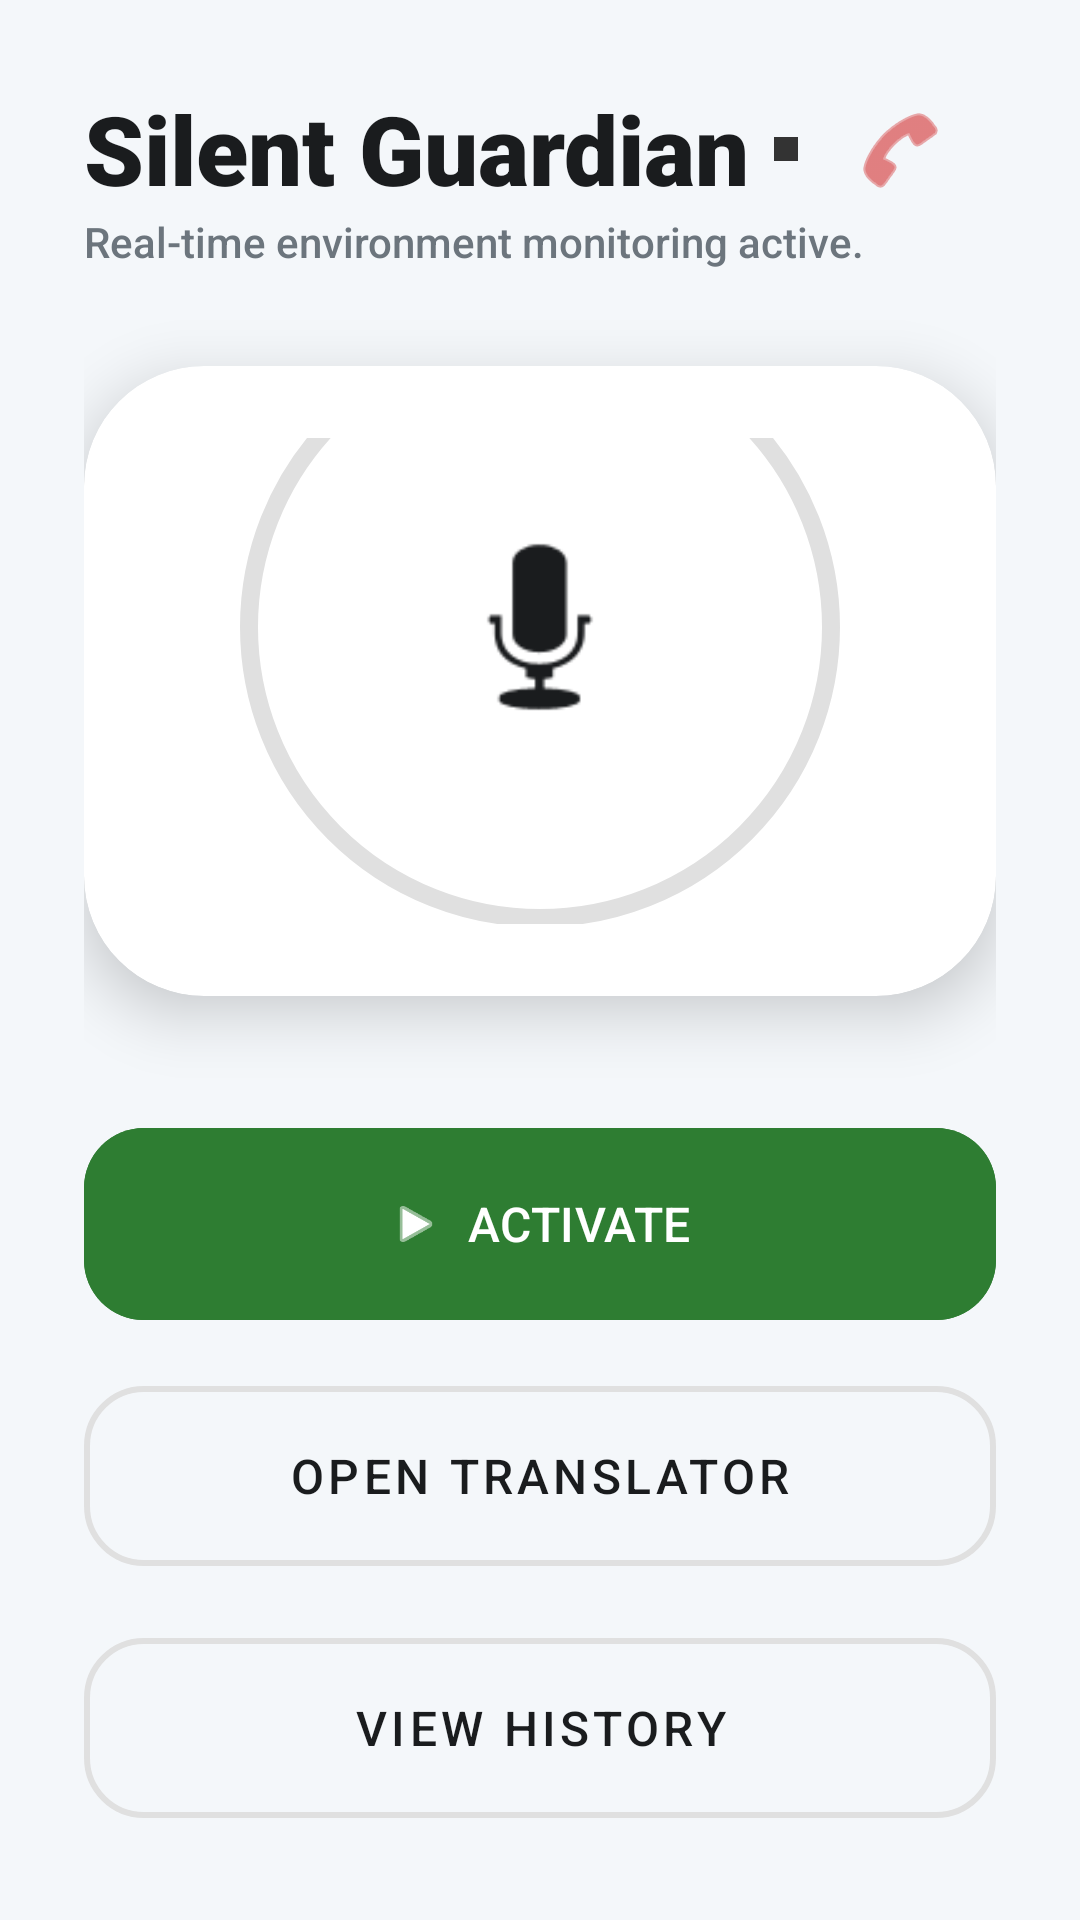

Named icons in this screenshot (1080x1920) and their centers, (x=x, y=y):
call: (x=900, y=150)
speak now: (x=540, y=627)
